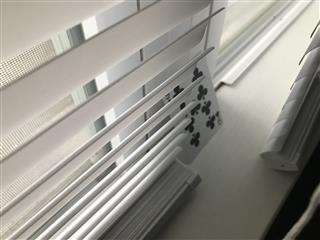NineOfClubs: (161, 55, 223, 164)
